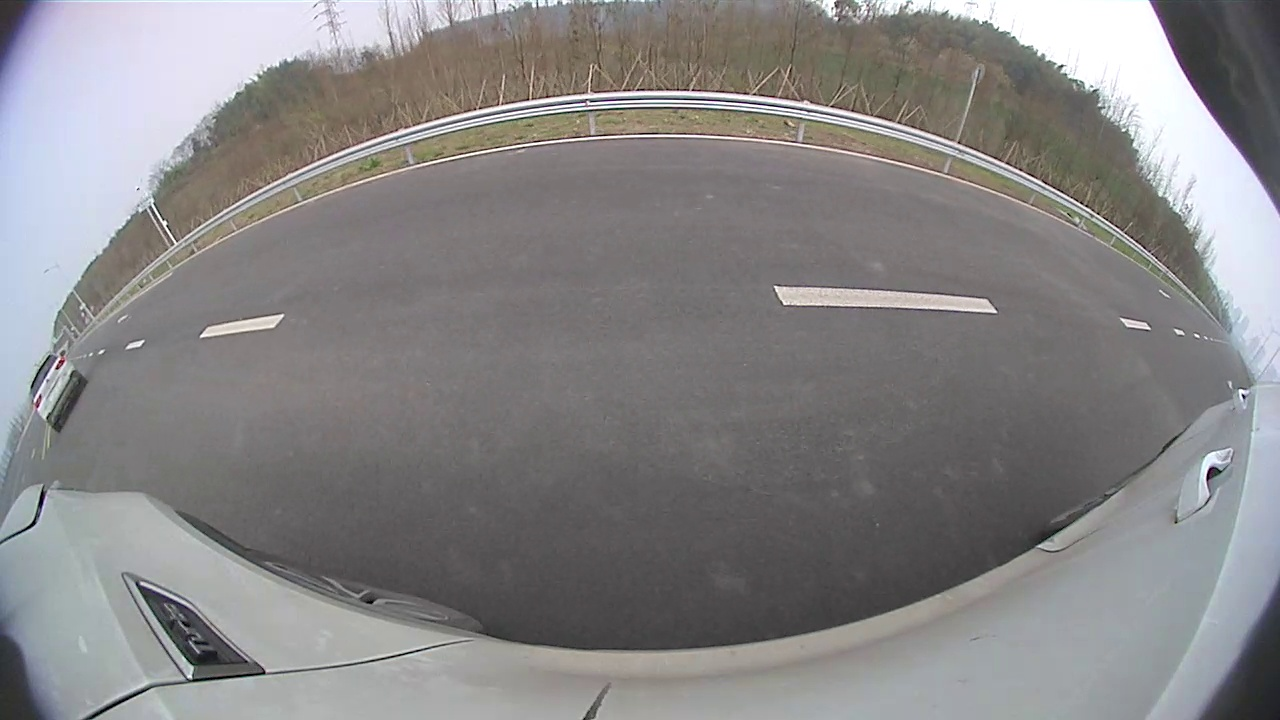car: (27, 352, 91, 434)
